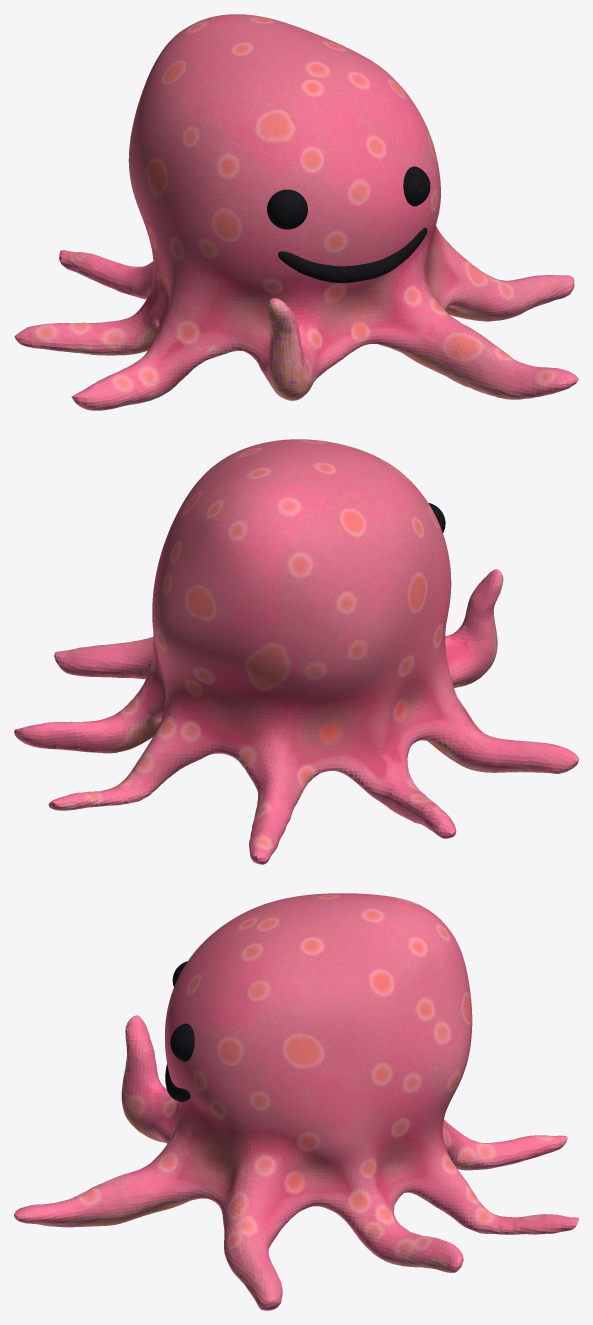
File: octy_pink_toy.glb
The picture shows the model from 3 angles, top to bottom: view 1: azimuth 30°, elevation 25°; view 2: azimuth 150°, elevation 25°; view 3: azimuth 270°, elevation 25°; orthographic projection. The views are drawn at different scales.
Parts seen in each view (by area): view 1: polySurface4, polySurface2; view 2: polySurface4; view 3: polySurface4, polySurface2.
Part boxes in pixels (<box>): polySurface4: <box>14,14,578,410</box>; polySurface2: <box>267,166,430,282</box>; polySurface4: <box>14,439,578,864</box>; polySurface4: <box>14,893,578,1310</box>; polySurface2: <box>165,961,194,1101</box>.
Size of the model in its own units: 733 by 416 by 738.
Materials: 2 (2 with a texture image).
